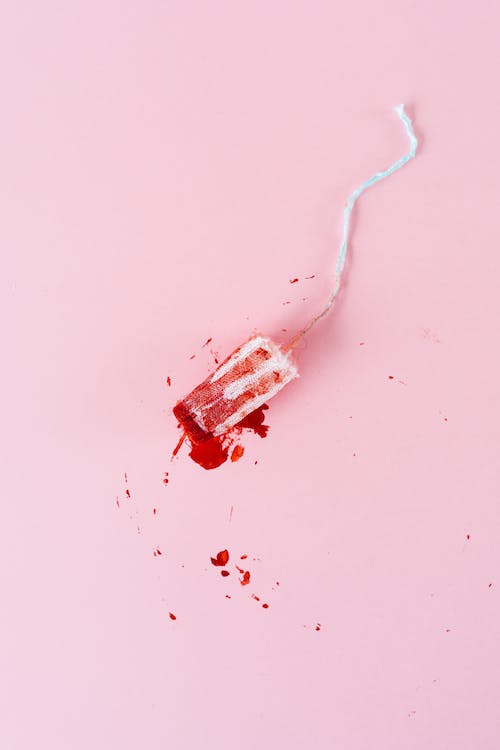blood: (111, 269, 500, 638), (173, 330, 300, 448)
